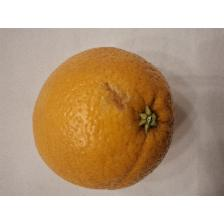Orange: (32, 46, 176, 192)
